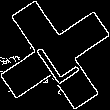L_NW: (28, 25, 82, 85)
